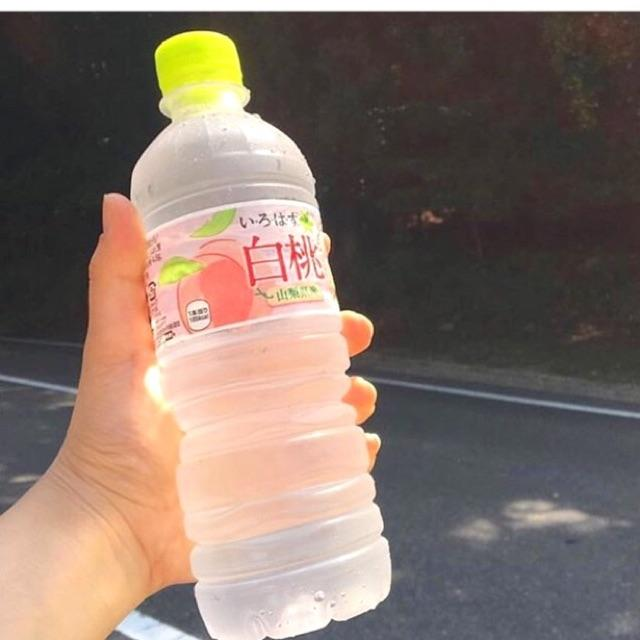bottle: (118, 16, 404, 635)
